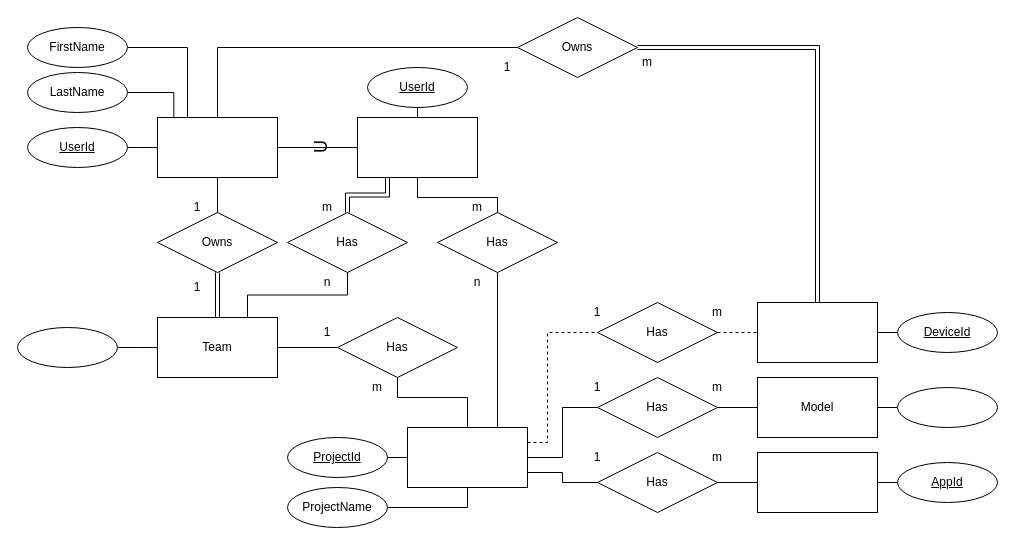
The diagram is 1015 pixels wide and 545 high, and some of its shapes have lost their labels. Each missing label, with the centre of its shape:
App: (x=817, y=482)
Collaborator: (x=417, y=147)
Device: (x=817, y=332)
ModelId: (x=947, y=407)
Project: (x=467, y=457)
TeamId: (x=67, y=347)
User: (x=217, y=147)
